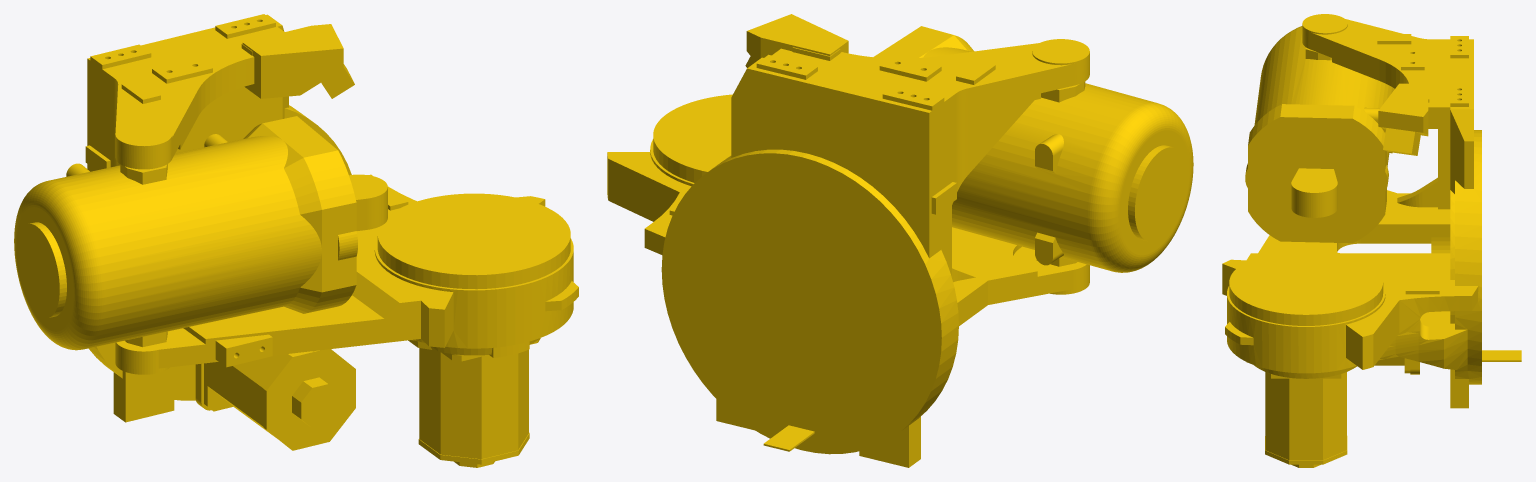
The picture shows the model from 3 angles, left to right: view 1: azimuth 30°, elevation 25°; view 2: azimuth 150°, elevation 25°; view 3: azimuth 270°, elevation 25°; orthographic projection. The views are drawn at different scales.
Parts seen in each view (by area): view 1: Node_0x7f98ee6ac800; view 2: Node_0x7f98ee6ac800; view 3: Node_0x7f98ee6ac800.
Part boxes in pixels (x1=…): Node_0x7f98ee6ac800: x1=14, y1=14, x2=578, y2=467; Node_0x7f98ee6ac800: x1=607, y1=14, x2=1193, y2=467; Node_0x7f98ee6ac800: x1=1222, y1=14, x2=1521, y2=467.
Size of the model in its own units: 1.03 by 0.7371 by 0.6322.
